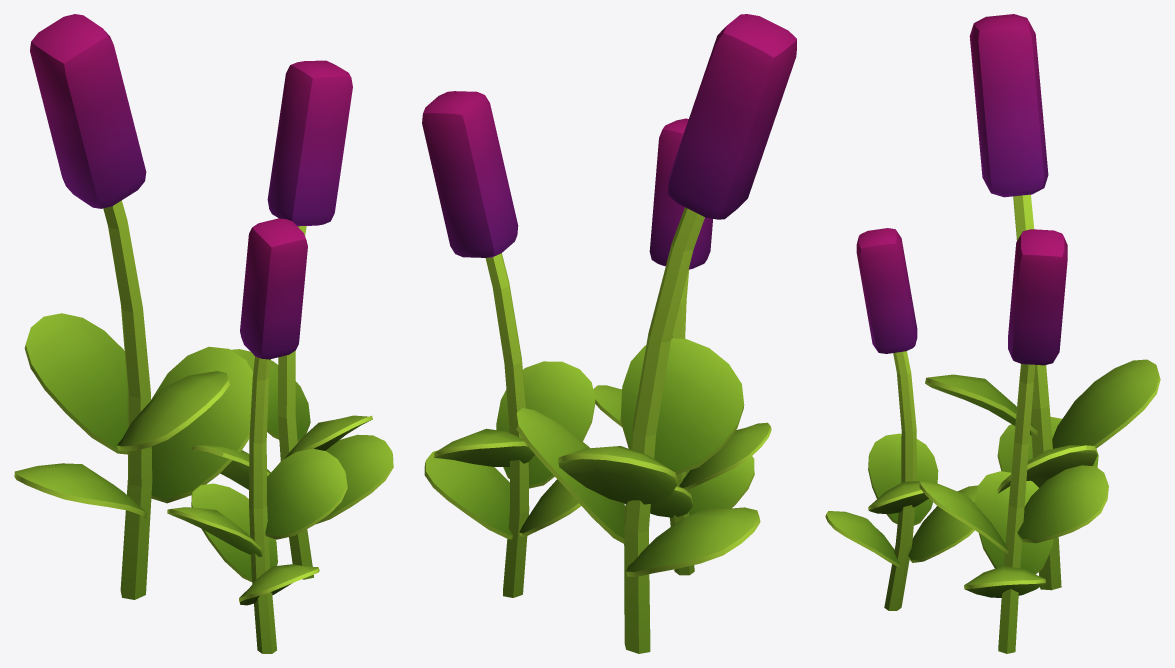
Rendered from mt_prop_p04.fbx.
3 renders of one model, left to right at view 1: azimuth 30°, elevation 25°; view 2: azimuth 150°, elevation 25°; view 3: azimuth 270°, elevation 25°, orthographic. The views are drawn at different scales.
Visible parts, largest first — view 1: prop_p04; view 2: prop_p04; view 3: prop_p04.
Part boxes in pixels (x1,y1,x2,y2): prop_p04: [14, 14, 393, 653]; prop_p04: [422, 14, 796, 653]; prop_p04: [825, 14, 1160, 653].
Bounding box in the file's own units: 58.95 × 99.35 × 56.33.
